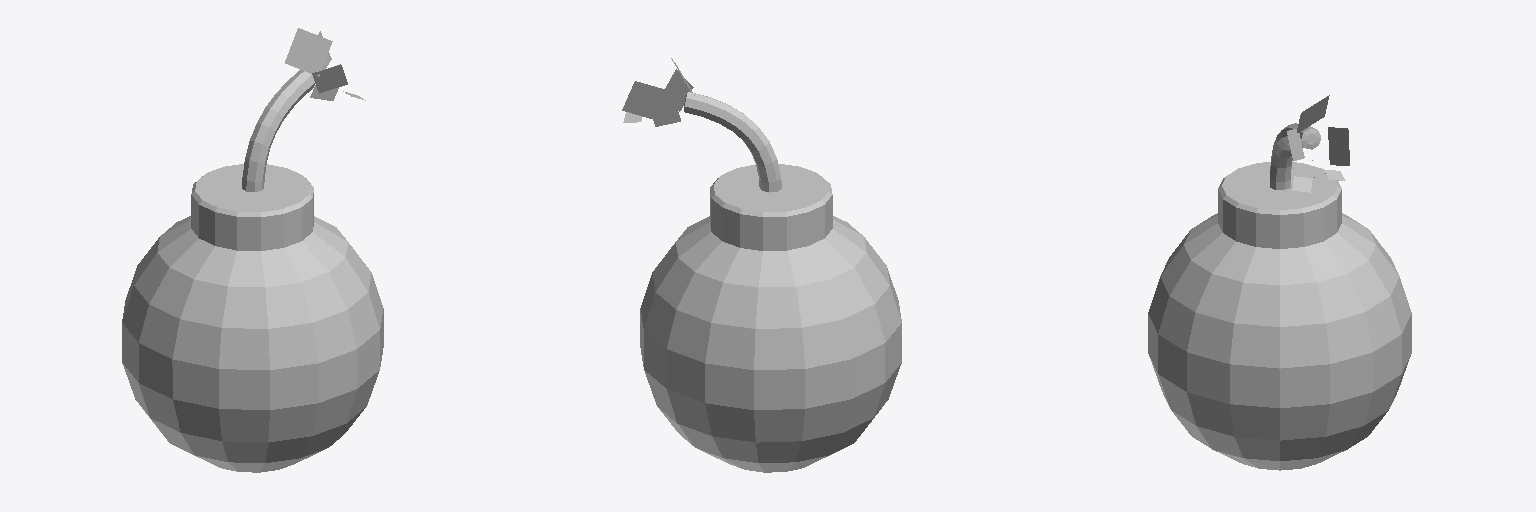
Rendered from bomb_000028.obj.
The picture shows the model from 3 angles: view 1: azimuth 30°, elevation 25°; view 2: azimuth 150°, elevation 25°; view 3: azimuth 270°, elevation 25°; orthographic projection.
Visible parts, largest first — view 1: Sphere, NurbsPath, Plane_5.001_Mesh.001; view 2: Sphere, NurbsPath, Plane_5.001_Mesh.001; view 3: Sphere, Plane_5.001_Mesh.001, NurbsPath.
Boxes of the visible parts, <box> form: Sphere: <box>122,164,383,472</box>; NurbsPath: <box>242,70,315,191</box>; Plane_5.001_Mesh.001: <box>285,28,365,100</box>; Sphere: <box>640,164,901,472</box>; NurbsPath: <box>684,92,781,192</box>; Plane_5.001_Mesh.001: <box>622,58,694,126</box>; Sphere: <box>1148,162,1411,470</box>; Plane_5.001_Mesh.001: <box>1287,95,1349,192</box>; NurbsPath: <box>1270,123,1320,189</box>.
Bounding box in the file's own units: 0.7989 × 1.26 × 0.7772.